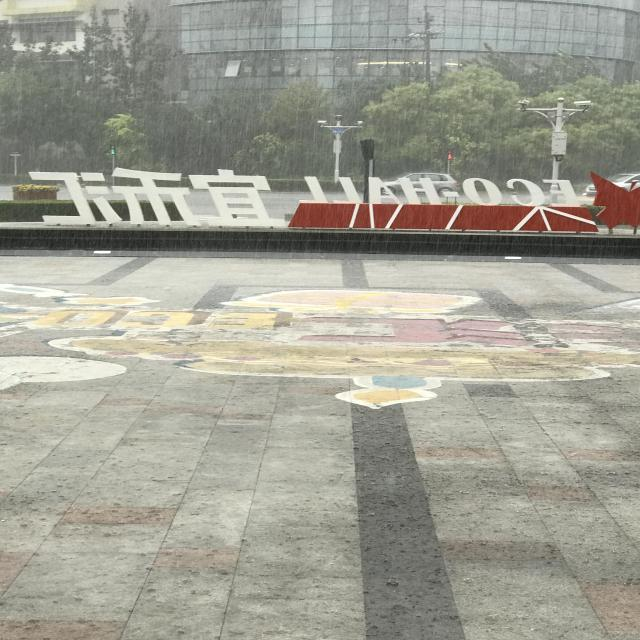car: (169, 170, 195, 270), (170, 0, 200, 57)
